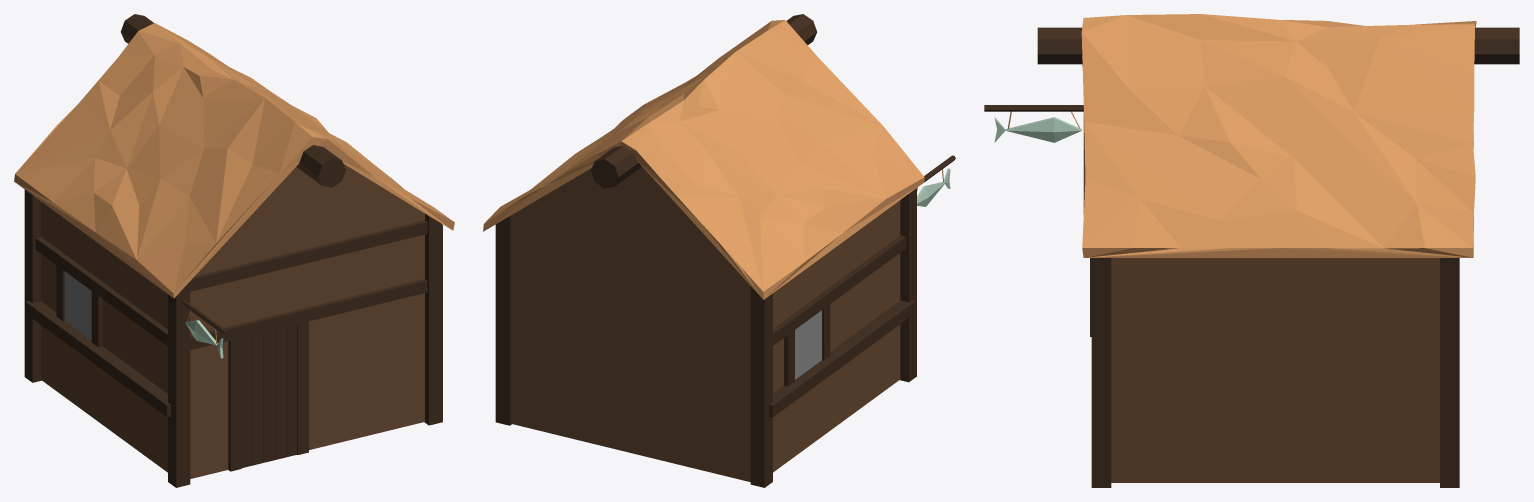
File: house_mat.fbx
3 views of the same model, side by side, from view 1: azimuth 30°, elevation 25°; view 2: azimuth 150°, elevation 25°; view 3: azimuth 270°, elevation 25° (orthographic). The views are drawn at different scales.
Parts seen in each view (by area): view 1: house_mat; view 2: house_mat; view 3: house_mat.
Boxes of the visible parts, x1=… form: house_mat: x1=14, y1=14, x2=454, y2=487; house_mat: x1=483, y1=14, x2=955, y2=487; house_mat: x1=984, y1=14, x2=1519, y2=487.
Bounding box in the file's own units: 236 × 259 × 318.
